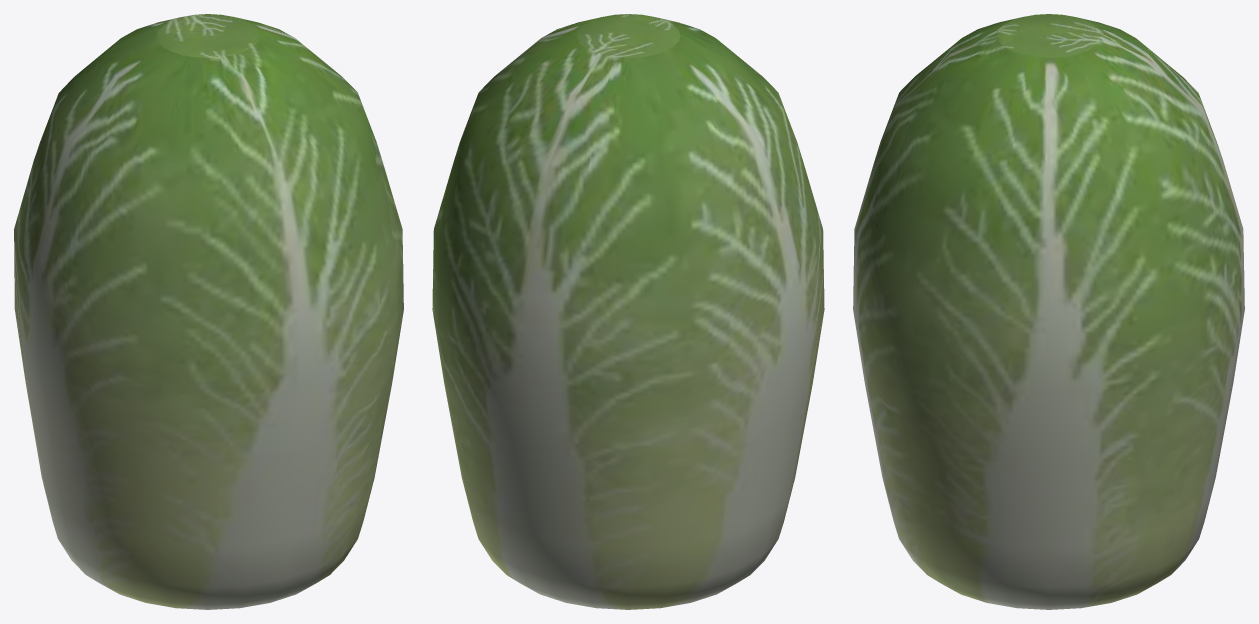
The model's file is cabbage.glb.
3 views of the same model, side by side, from view 1: azimuth 30°, elevation 25°; view 2: azimuth 150°, elevation 25°; view 3: azimuth 270°, elevation 25° (orthographic).
Parts seen in each view (by area): view 1: SM_Korean_Cabbage_M_Korean_Cabbage_0; view 2: SM_Korean_Cabbage_M_Korean_Cabbage_0; view 3: SM_Korean_Cabbage_M_Korean_Cabbage_0.
Boxes of the visible parts, x1=… form: SM_Korean_Cabbage_M_Korean_Cabbage_0: x1=14, y1=14, x2=403, y2=609; SM_Korean_Cabbage_M_Korean_Cabbage_0: x1=432, y1=14, x2=824, y2=609; SM_Korean_Cabbage_M_Korean_Cabbage_0: x1=853, y1=14, x2=1244, y2=609.
Size of the model in its own units: 0.204 by 0.3097 by 0.2042.
Materials: 1 (1 with a texture image).
